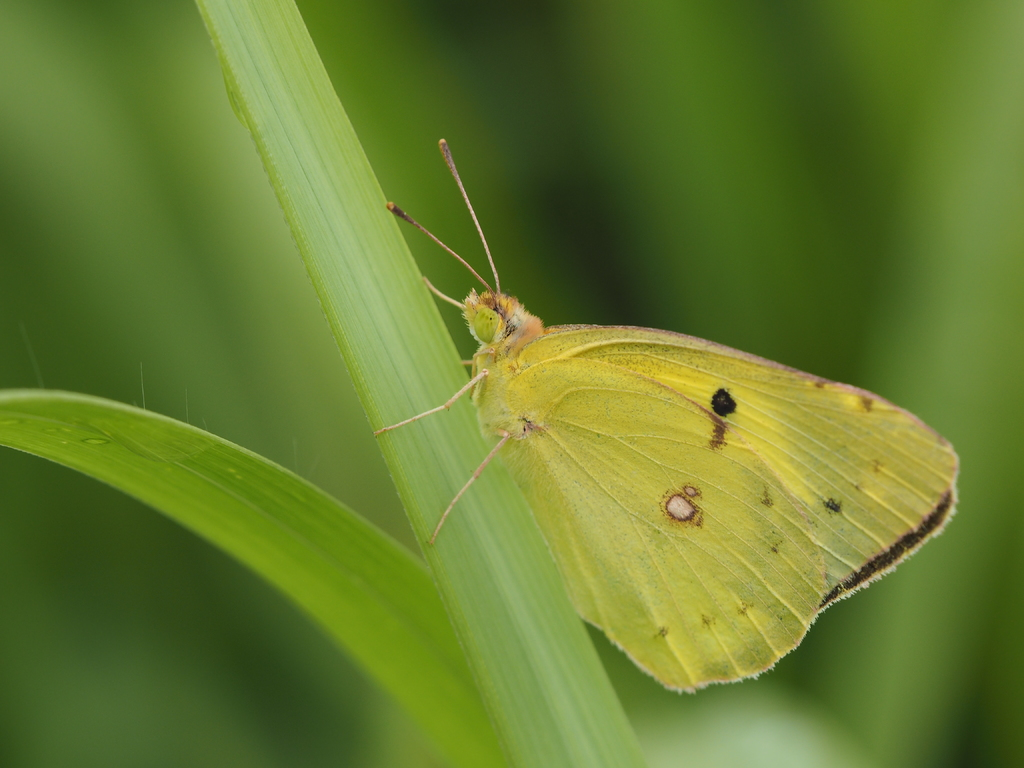Butterfly: (348, 138, 985, 730)
